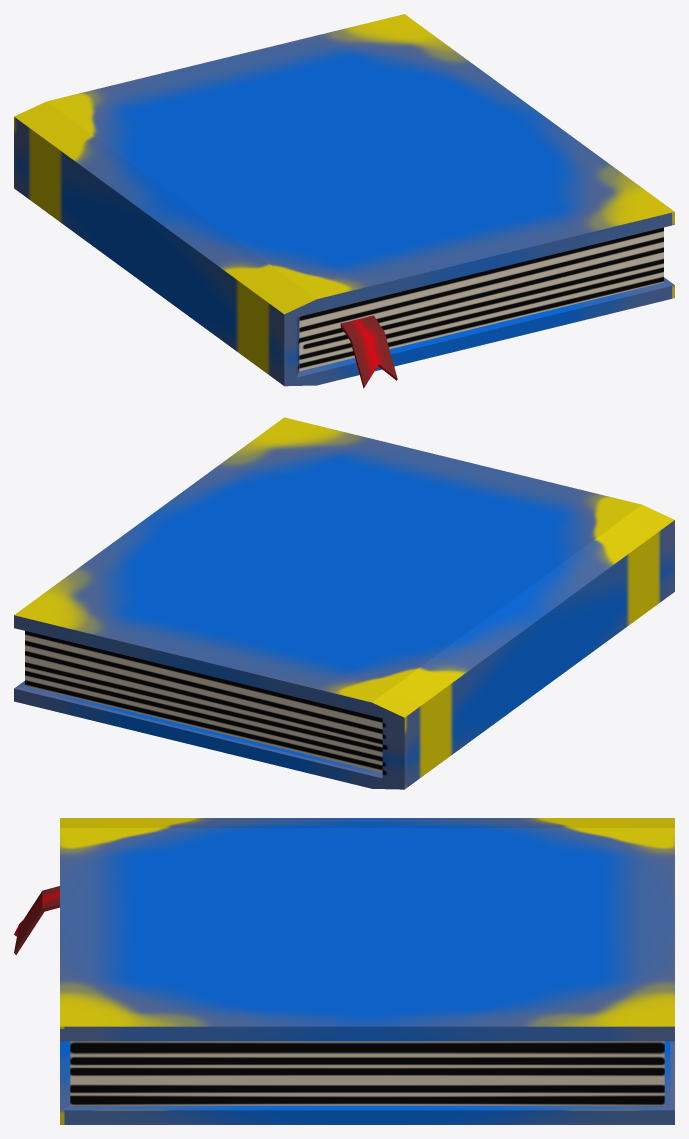
The model's file is Book 1.glb.
3 renders of one model, top to bottom at view 1: azimuth 30°, elevation 25°; view 2: azimuth 150°, elevation 25°; view 3: azimuth 270°, elevation 25°, orthographic. The views are drawn at different scales.
Parts seen in each view (by area): view 1: Cube, Plane; view 2: Cube; view 3: Cube, Plane.
Part boxes in pixels (x1=…): Cube: x1=14, y1=14, x2=674, y2=386; Plane: x1=340, y1=315, x2=397, y2=388; Cube: x1=14, y1=417, x2=674, y2=789; Cube: x1=60, y1=818, x2=674, y2=1124; Plane: x1=14, y1=886, x2=59, y2=954.
Size of the model in its own units: 0.2261 by 0.0477 by 0.2911.
3 materials, 3 textured.
